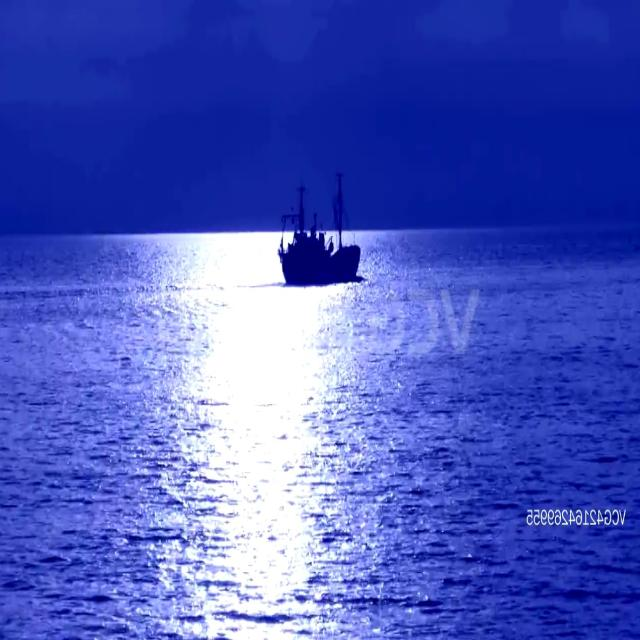houseboat: (278, 170, 364, 286)
